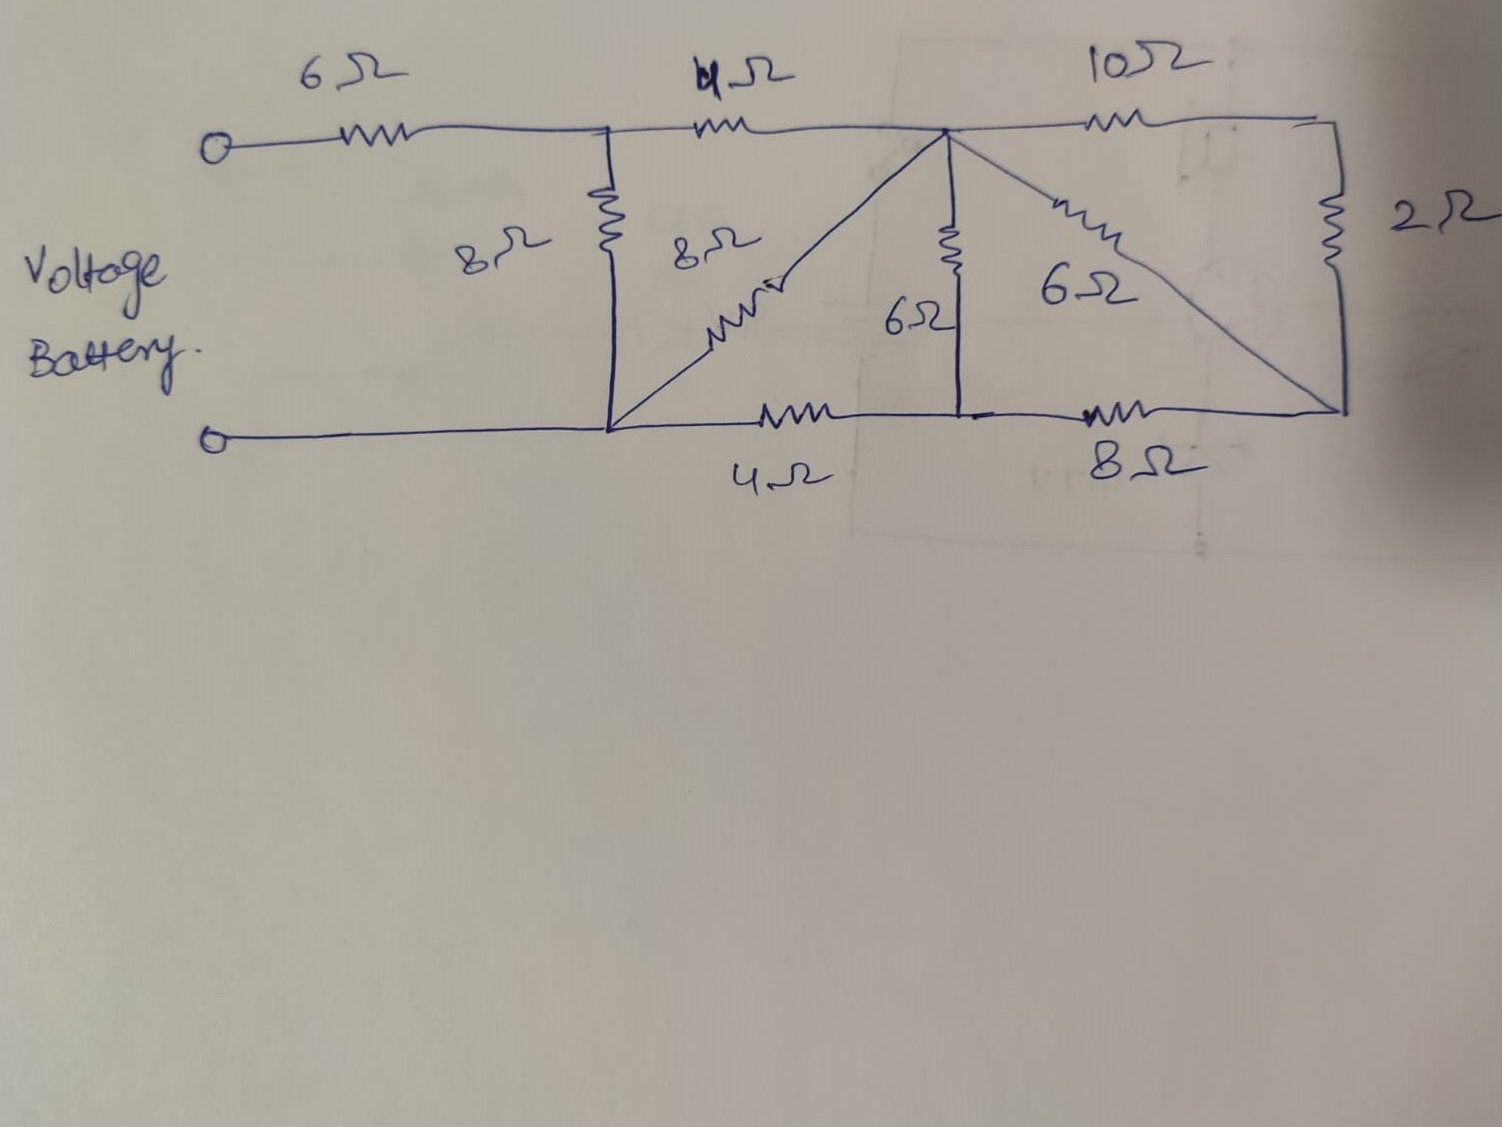junction: (945, 398, 973, 431), (597, 414, 623, 442), (932, 120, 958, 147), (594, 120, 620, 142), (1330, 404, 1353, 424), (1323, 114, 1343, 135)
resistor: (702, 275, 791, 350), (1047, 195, 1128, 255), (929, 207, 973, 294), (1315, 181, 1348, 275), (585, 182, 627, 255), (1079, 398, 1152, 429), (331, 122, 415, 148), (758, 400, 834, 429), (1078, 107, 1154, 134), (688, 114, 753, 139)
terminal: (192, 129, 238, 168), (191, 421, 237, 461)
text: (22, 244, 187, 397), (1084, 37, 1217, 82), (1391, 186, 1502, 236), (1087, 436, 1208, 481), (298, 44, 411, 92), (1037, 260, 1140, 311), (692, 52, 798, 99), (728, 456, 834, 500), (675, 221, 763, 270), (458, 226, 529, 275), (887, 294, 954, 336)
